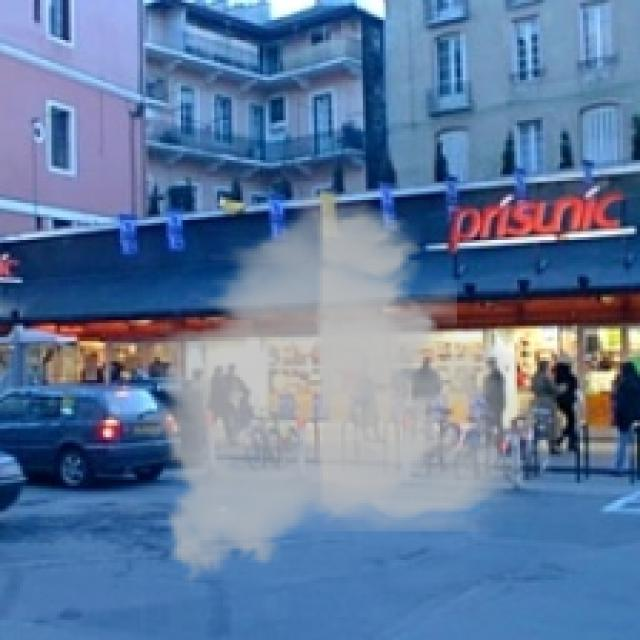smoke: (140, 177, 551, 594)
